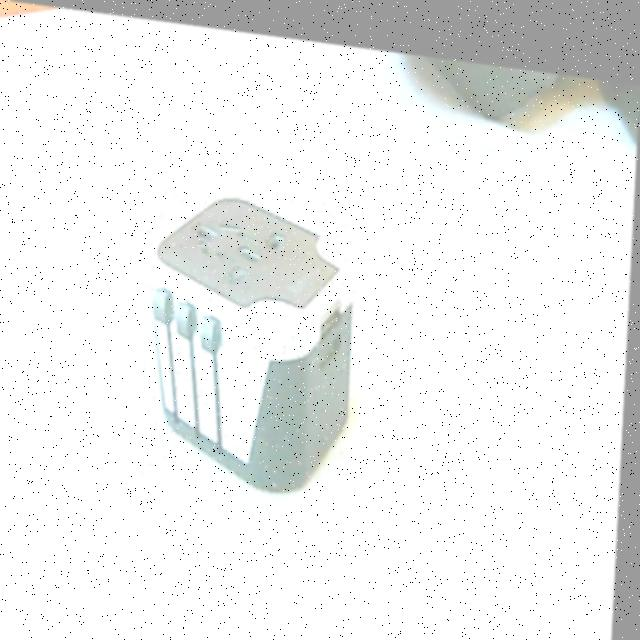adapter: (141, 176, 361, 491)
